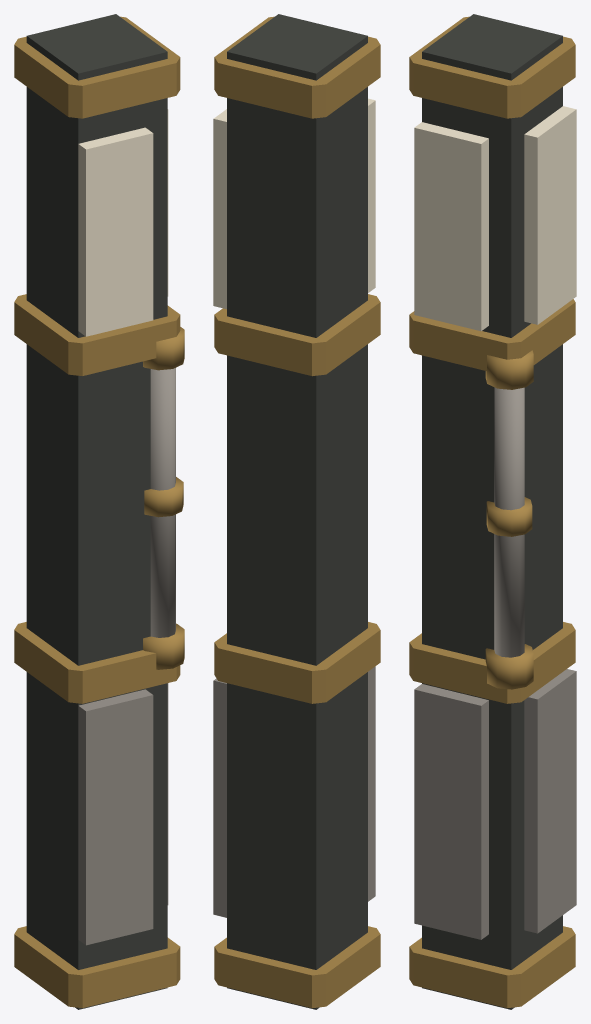
The model's file is b3_corner.glb.
3 views of the same model, side by side, from view 1: azimuth 30°, elevation 25°; view 2: azimuth 150°, elevation 25°; view 3: azimuth 330°, elevation 25° (orthographic).
Visible parts, largest first — view 1: b3_corner; view 2: b3_corner; view 3: b3_corner.
Part boxes in pixels (x1,y1,x2,y2): b3_corner: [14, 14, 184, 1009]; b3_corner: [213, 14, 380, 1009]; b3_corner: [409, 14, 576, 1009].
Size of the model in its own units: 0.5204 by 4 by 0.525.
